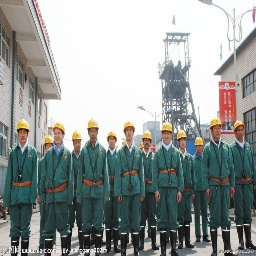helmet: (16, 116, 31, 137), (85, 117, 102, 135), (208, 116, 224, 135), (158, 122, 175, 138), (123, 120, 136, 136), (52, 122, 66, 136)
person: (0, 118, 39, 256), (202, 117, 238, 256), (152, 120, 185, 256), (114, 119, 146, 256), (77, 116, 108, 256), (43, 120, 74, 256), (234, 120, 256, 256)
